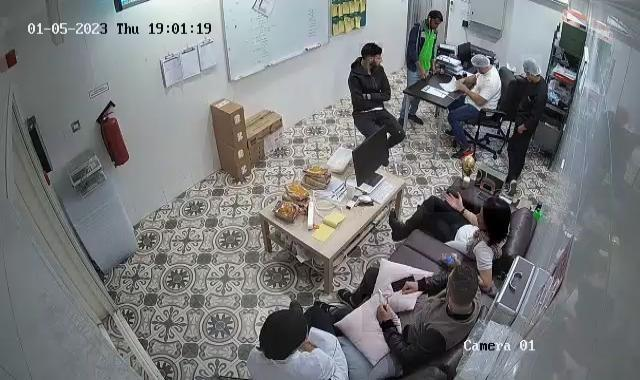gloves: (256, 309, 311, 364), (521, 54, 542, 82), (472, 53, 491, 77)
no_apron: (363, 294, 400, 332), (435, 186, 475, 212), (392, 275, 426, 300), (416, 65, 430, 83)
no_gloves: (478, 198, 512, 248), (448, 262, 478, 314), (359, 43, 384, 66), (424, 12, 444, 26)
no_hairnet: (424, 20, 443, 34), (472, 214, 486, 231), (367, 58, 385, 71)
